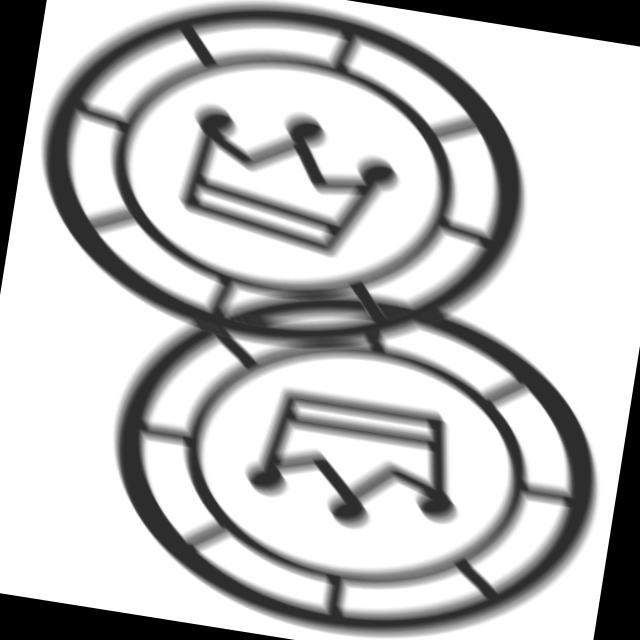coin: (80, 244, 628, 640), (10, 1, 554, 392)
